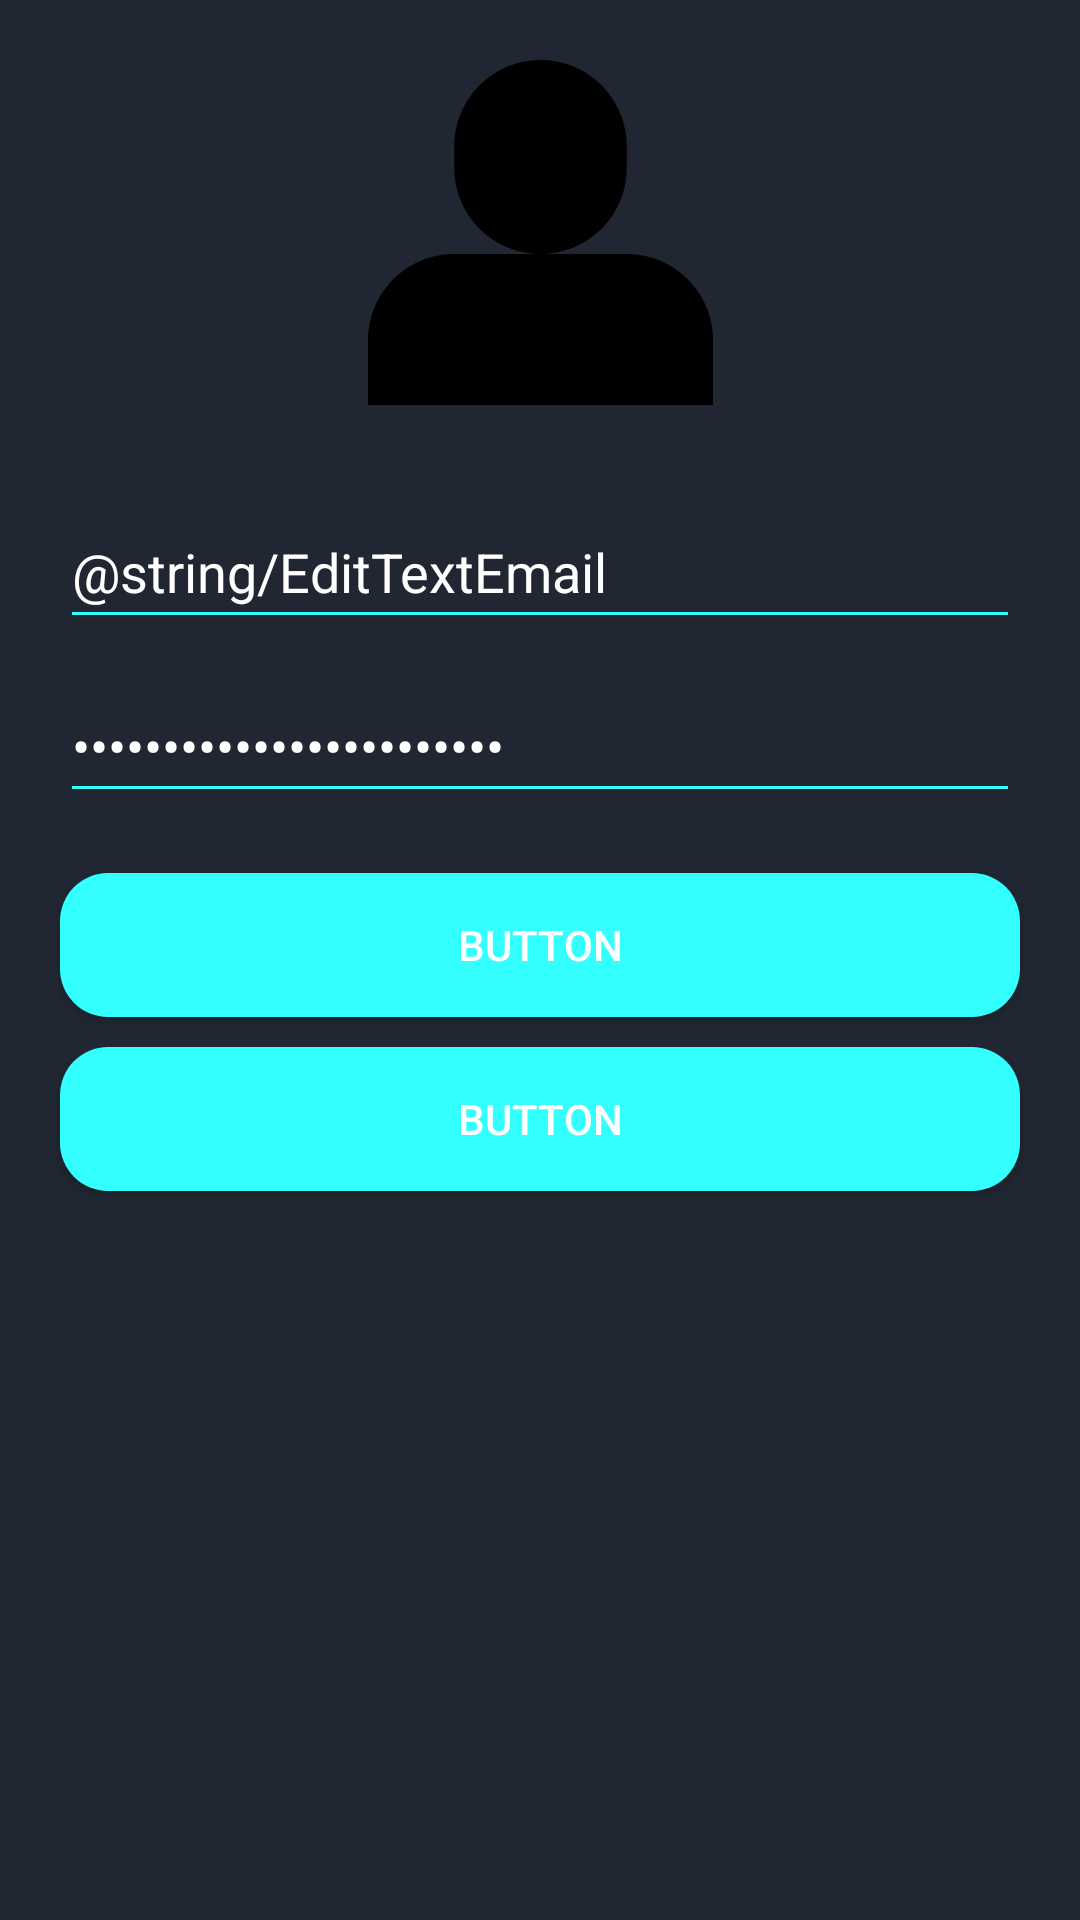

Icon click points for this 1080x1920 phone screenshot, format [x,y]:
user: [540,232]
